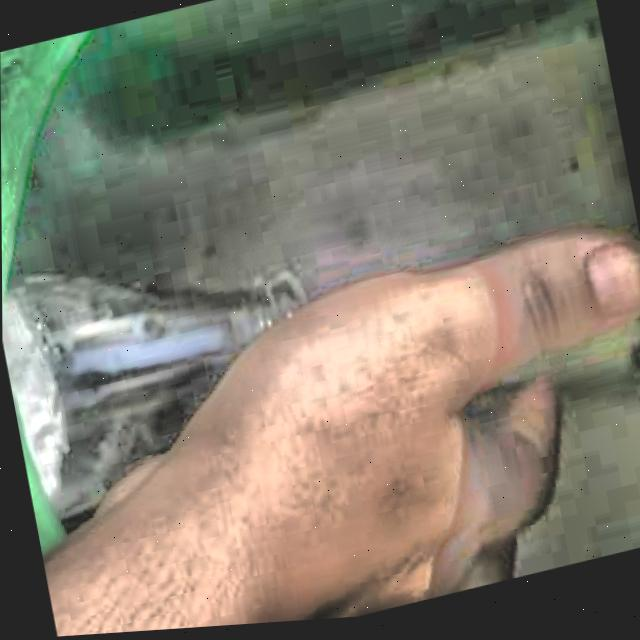glass: (2, 276, 304, 521)
